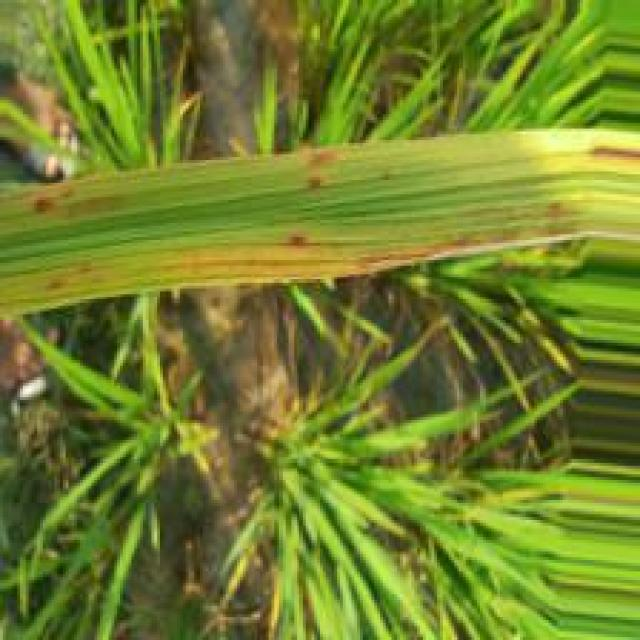Brown_Spot: (342, 233, 481, 275), (583, 144, 639, 165), (295, 147, 342, 171), (25, 194, 63, 221), (280, 229, 310, 254), (300, 179, 339, 196)
